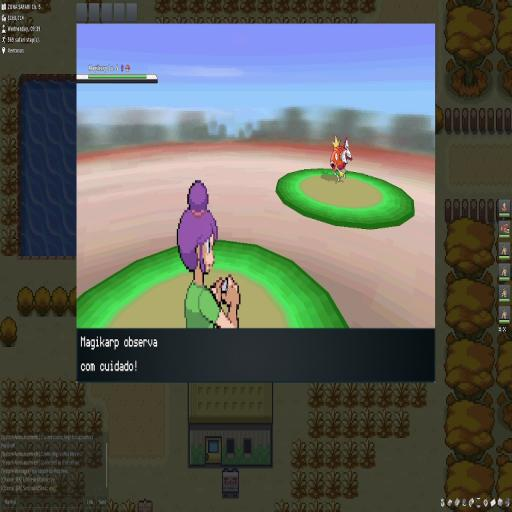MAGIKARP: (330, 136, 353, 182)
